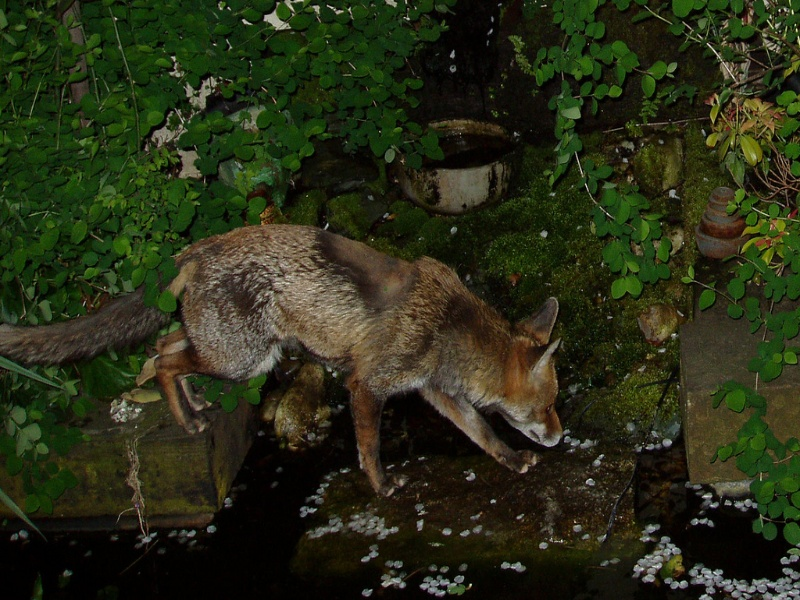fox: (1, 208, 577, 503)
